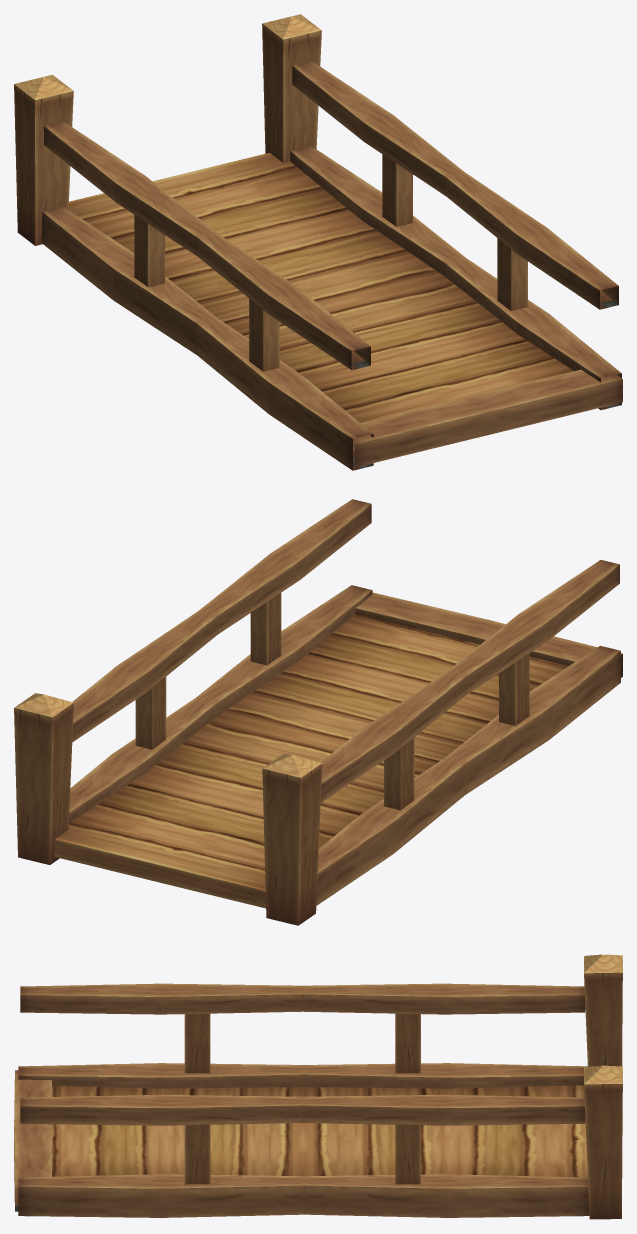
The model's file is bridge_02a_tile_01.fbx.
The picture shows the model from 3 angles, top to bottom: view 1: azimuth 30°, elevation 25°; view 2: azimuth 150°, elevation 25°; view 3: azimuth 270°, elevation 25°; orthographic projection. The views are drawn at different scales.
Visible parts, largest first — view 1: bridge_02a_tile_01Mesh; view 2: bridge_02a_tile_01Mesh; view 3: bridge_02a_tile_01Mesh.
Part boxes in pixels (left/top/right/bottom): bridge_02a_tile_01Mesh: left=14, top=14, right=622, bottom=470; bridge_02a_tile_01Mesh: left=14, top=499, right=622, bottom=925; bridge_02a_tile_01Mesh: left=14, top=954, right=622, bottom=1219.
Size of the model in its own units: 2.03 by 1.08 by 4.06.
